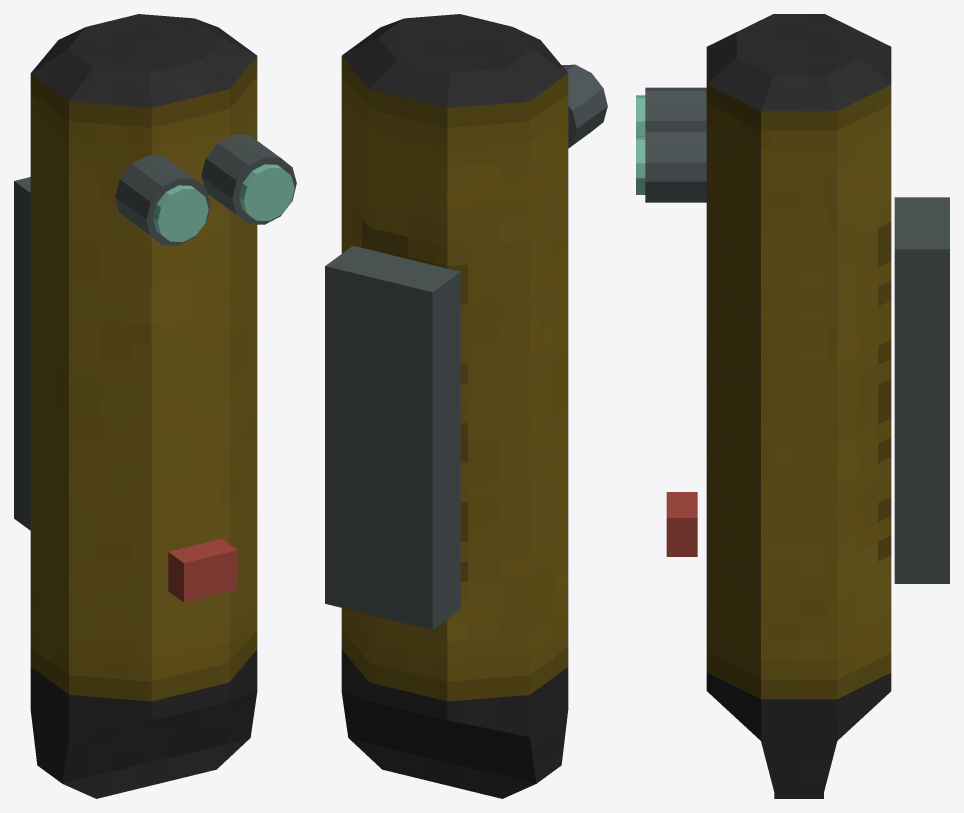
File: blender_dots_projector_1_deployed.glb
3 views of the same model, side by side, from view 1: azimuth 30°, elevation 25°; view 2: azimuth 150°, elevation 25°; view 3: azimuth 270°, elevation 25° (orthographic).
Visible parts, largest first — view 1: blender_dots_projector_1_deployed; view 2: blender_dots_projector_1_deployed; view 3: blender_dots_projector_1_deployed.
Boxes of the visible parts, left/top/right/bottom form: blender_dots_projector_1_deployed: left=14, top=14, right=296, bottom=798; blender_dots_projector_1_deployed: left=325, top=14, right=607, bottom=798; blender_dots_projector_1_deployed: left=636, top=14, right=949, bottom=798.
Bounding box in the file's own units: 0.035 × 0.13 × 0.051.
1 material, 1 textured.
